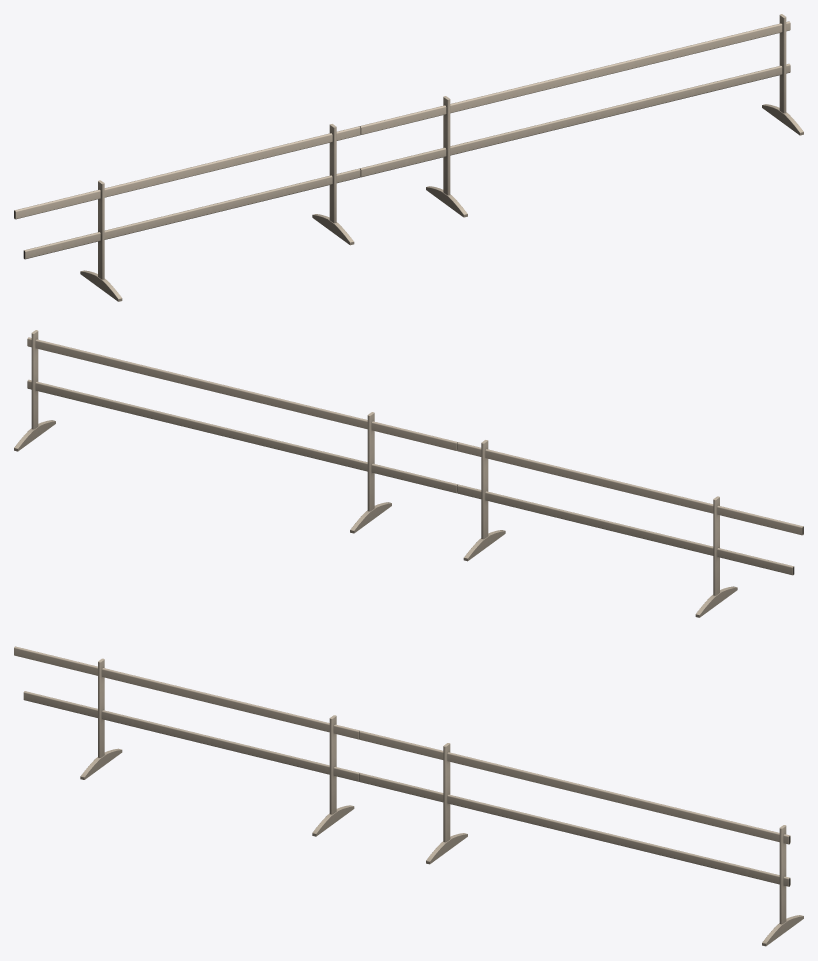
The model's file is 02_Fence_1.glb.
The picture shows the model from 3 angles, top to bottom: view 1: azimuth 30°, elevation 25°; view 2: azimuth 150°, elevation 25°; view 3: azimuth 330°, elevation 25°; orthographic projection.
Visible parts, largest first — view 1: Fence_1; view 2: Fence_1; view 3: Fence_1.
Boxes of the visible parts, x1,y1,x2,y2 form: Fence_1: (14, 14, 803, 301); Fence_1: (14, 330, 803, 617); Fence_1: (14, 646, 803, 946).
Size of the model in its own units: 8.14 by 1.06 by 0.6908.
1 material, 1 textured.
